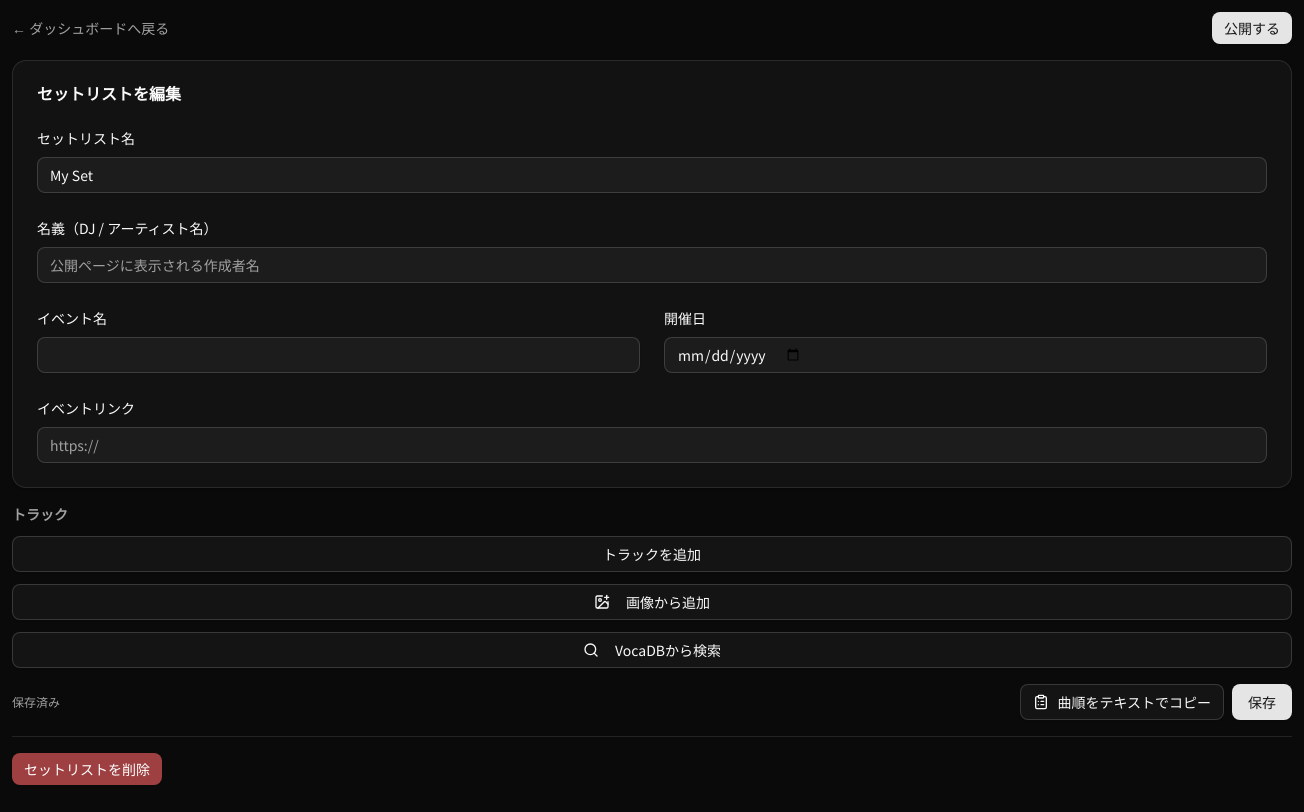
Test: SetlistEditor 未保存インジケーター › switches to unsaved once the DJ edits something
Check: the field labelled "セットリスト名" is shown, box [37, 157, 1267, 193]
In the field labelled "イベント名": (338, 355) [37, 337, 640, 373], type "Club Night"
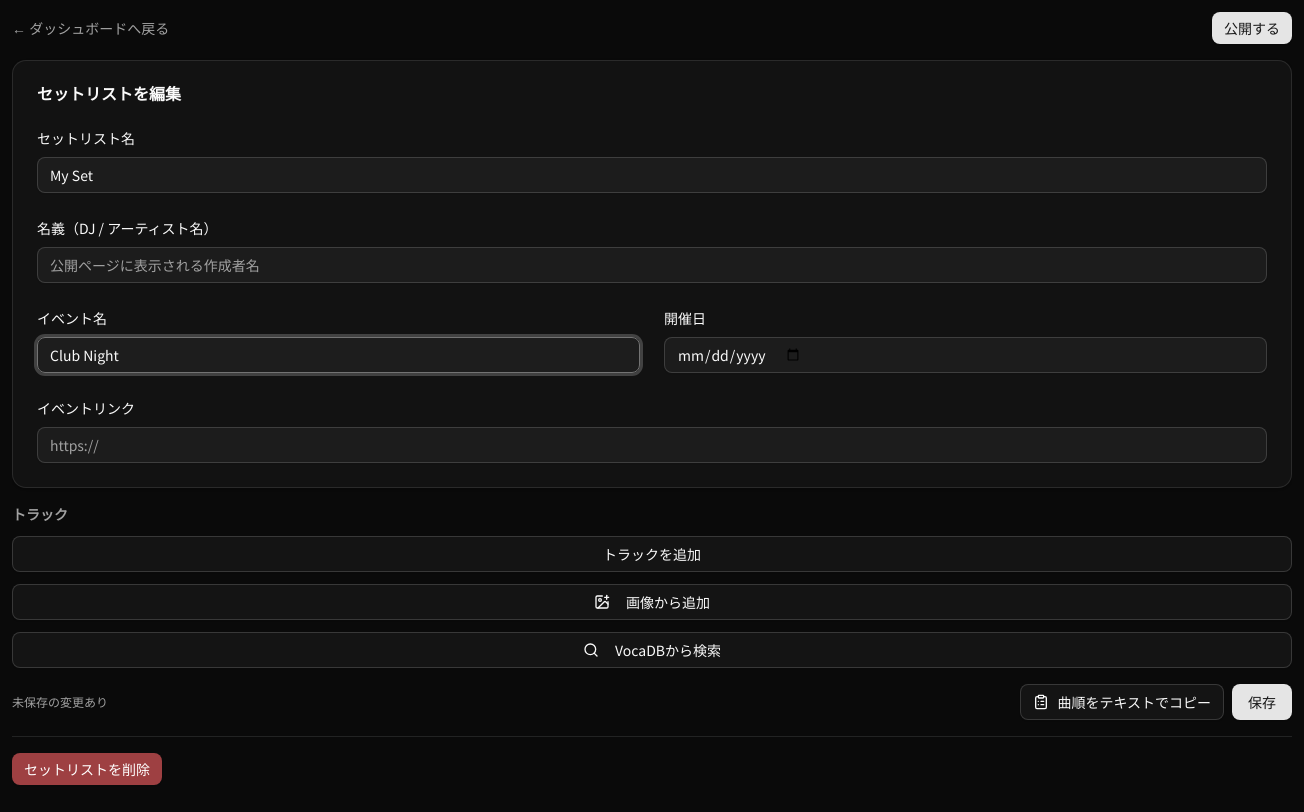
Check: the text "未保存の変更あり" is shown, box [12, 694, 108, 710]
